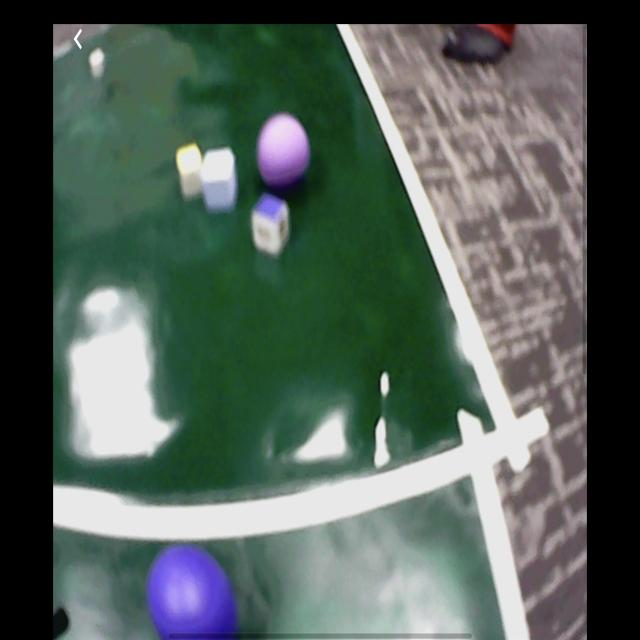ball: (148, 543, 236, 638), (256, 114, 312, 187)
